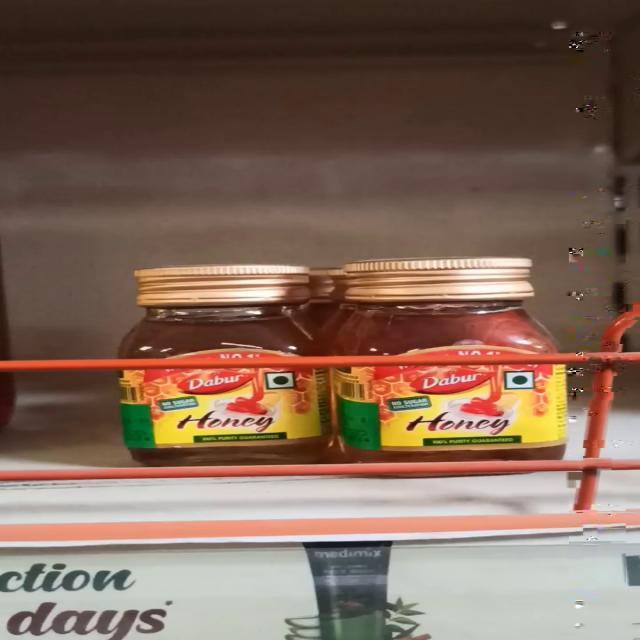Dabur Honey: (338, 259, 570, 462), (136, 266, 334, 460)
